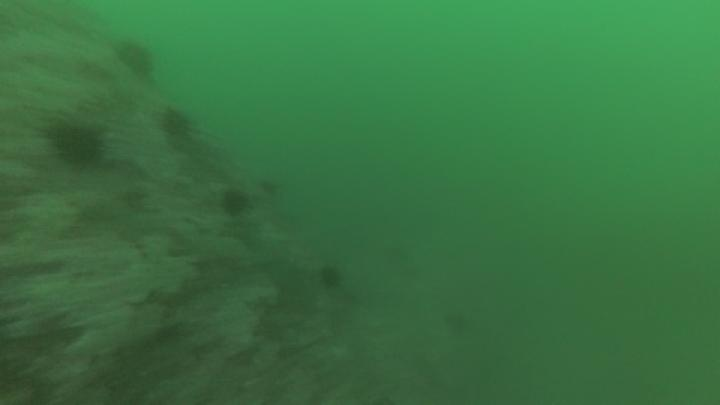echinus: (51, 123, 101, 169), (117, 41, 150, 76), (164, 107, 188, 138), (319, 268, 344, 292), (225, 193, 248, 216)
